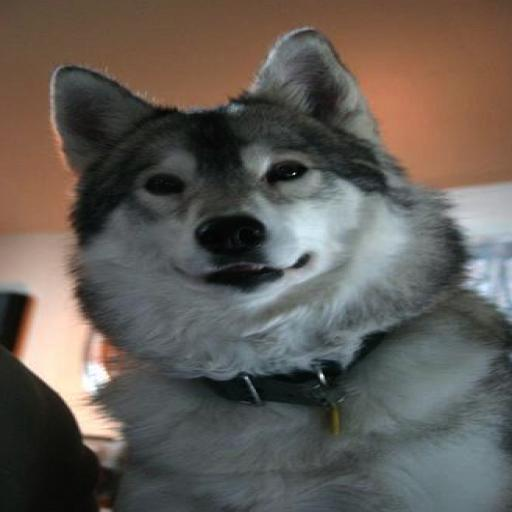dog_face: (62, 43, 360, 289)
